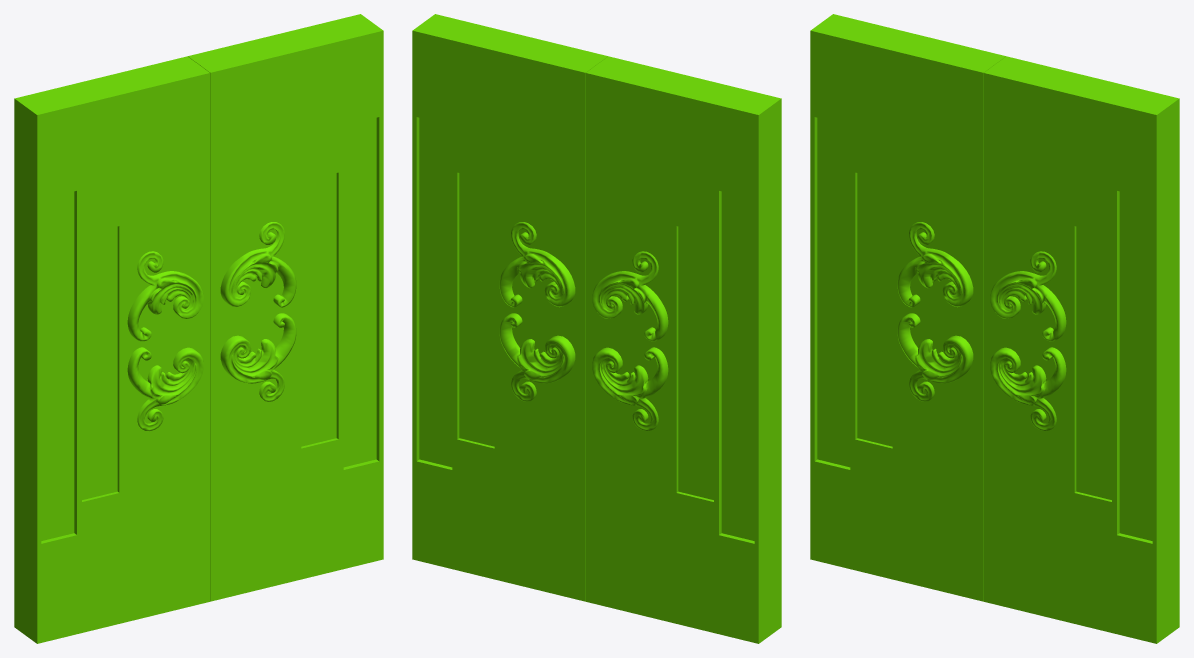
The model's file is SM_tunnel_door.fbx.
3 renders of one model, left to right at view 1: azimuth 30°, elevation 25°; view 2: azimuth 150°, elevation 25°; view 3: azimuth 330°, elevation 25°, orthographic.
Visible parts, largest first — view 1: SM_TunnelDoorDup_L, SM_TunnelDoorDup_R; view 2: SM_TunnelDoorDup_L, SM_TunnelDoorDup_R; view 3: SM_TunnelDoorDup_R, SM_TunnelDoorDup_L.
Boxes of the visible parts, x1=… form: SM_TunnelDoorDup_L: x1=14, y1=56, x2=210, y2=643; SM_TunnelDoorDup_R: x1=188, y1=14, x2=383, y2=601; SM_TunnelDoorDup_L: x1=585, y1=56, x2=781, y2=643; SM_TunnelDoorDup_R: x1=412, y1=14, x2=607, y2=601; SM_TunnelDoorDup_R: x1=983, y1=56, x2=1179, y2=643; SM_TunnelDoorDup_L: x1=810, y1=14, x2=1005, y2=601.
Bounding box in the file's own units: 528 × 770 × 89.38.
